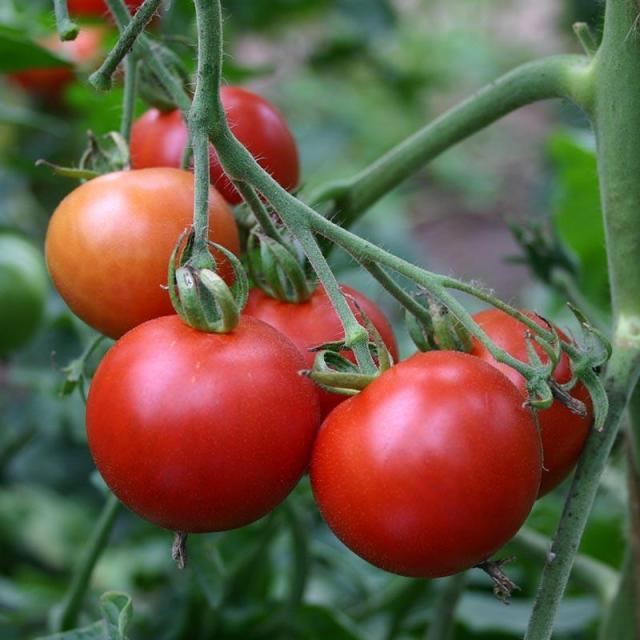kirmizi: (102, 320, 540, 536)
sari: (46, 140, 256, 306)
